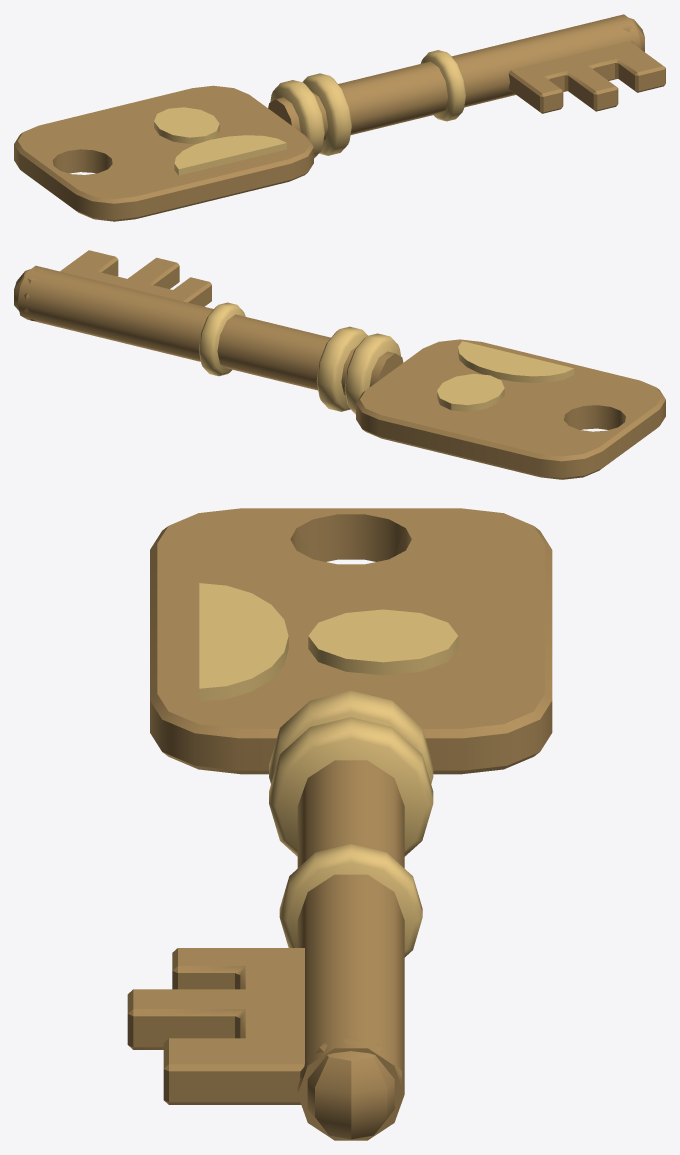
File: pass_key.glb
3 renders of one model, top to bottom at view 1: azimuth 30°, elevation 25°; view 2: azimuth 150°, elevation 25°; view 3: azimuth 270°, elevation 25°, orthographic. The views are drawn at different scales.
Visible parts, largest first — view 1: pass_key_body; view 2: pass_key_body; view 3: pass_key_body.
Part boxes in pixels (left/top/right/bottom): pass_key_body: left=14, top=14, right=665, bottom=221; pass_key_body: left=14, top=250, right=665, bottom=479; pass_key_body: left=127, top=508, right=552, bottom=1140.
Size of the model in its own units: 0.0769 by 0.0092 by 0.0238.
